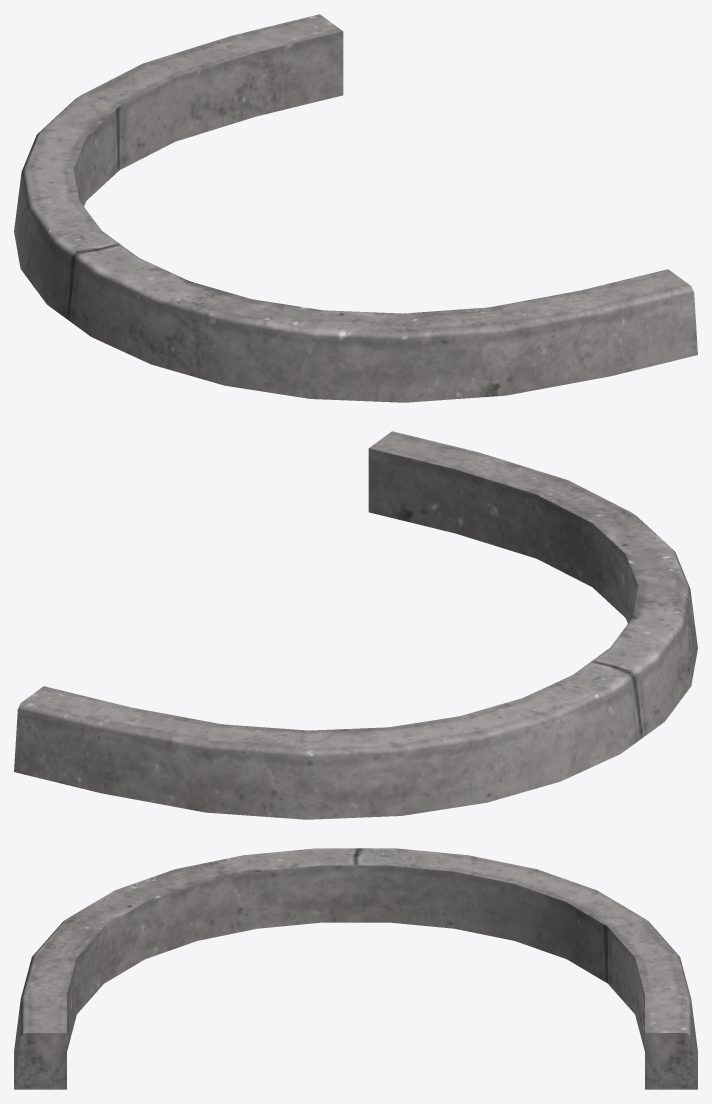
File: MB_Curbstone_Sewer_Hatch.fbx
The picture shows the model from 3 angles, top to bottom: view 1: azimuth 30°, elevation 25°; view 2: azimuth 150°, elevation 25°; view 3: azimuth 270°, elevation 25°; orthographic projection. The views are drawn at different scales.
Parts seen in each view (by area): view 1: MB_Curbstone_Sewer_Hatch_LOD0; view 2: MB_Curbstone_Sewer_Hatch_LOD0; view 3: MB_Curbstone_Sewer_Hatch_LOD0.
Boxes of the visible parts, x1,y1,x2,y2 form: MB_Curbstone_Sewer_Hatch_LOD0: [14, 14, 697, 402]; MB_Curbstone_Sewer_Hatch_LOD0: [14, 431, 697, 819]; MB_Curbstone_Sewer_Hatch_LOD0: [14, 848, 697, 1089].
Size of what is drawn, in the model's own units: 78.46 by 11 by 120.
